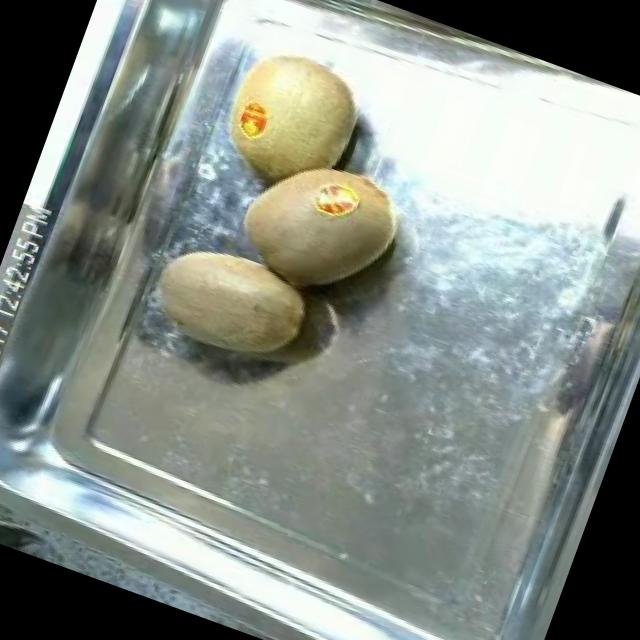Fruit: (216, 128, 422, 322), (200, 24, 384, 212), (126, 222, 327, 390)
